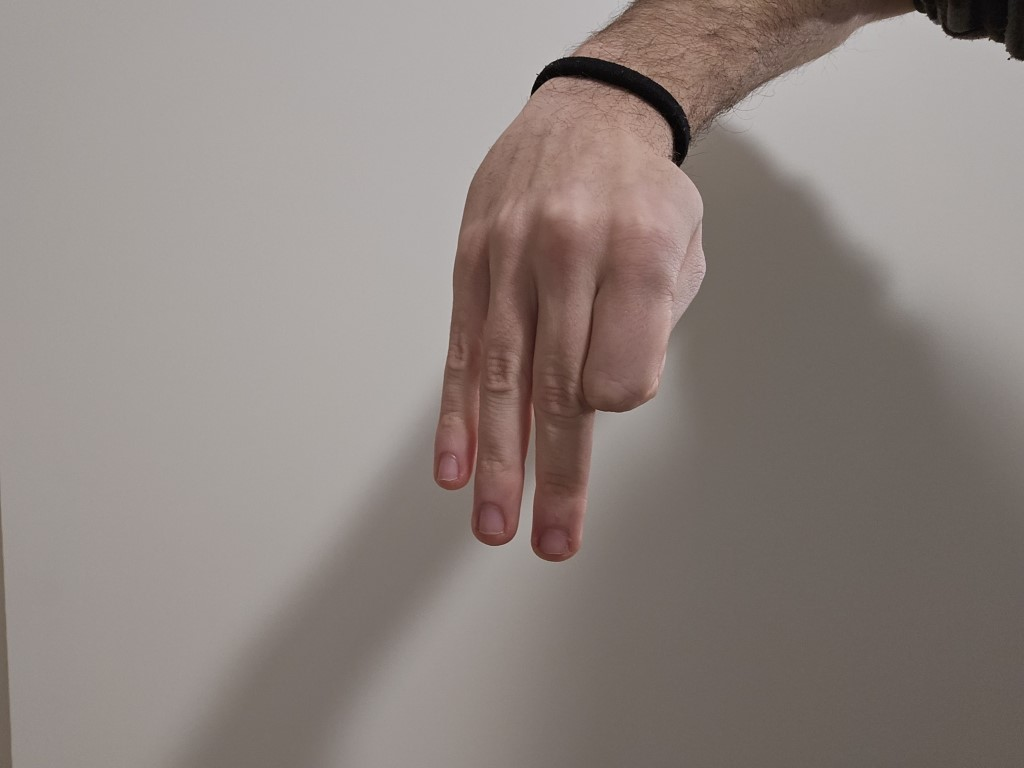m: (414, 99, 714, 583)
